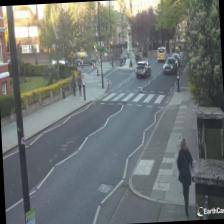person: (176, 136, 196, 214)
